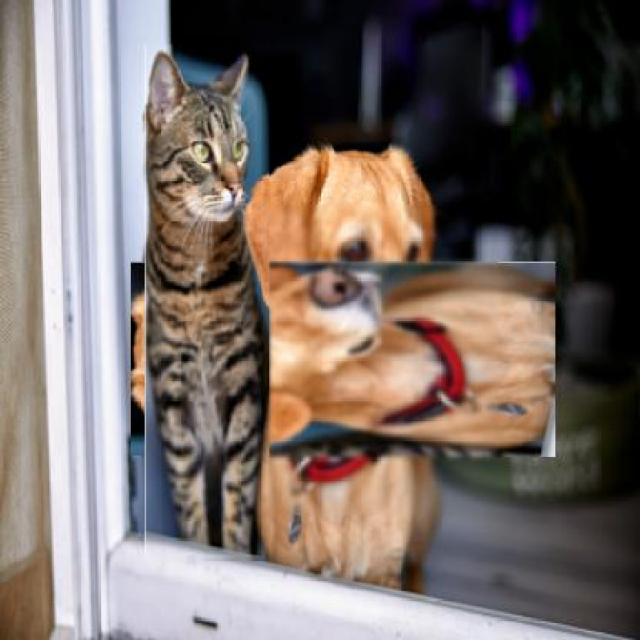cat: (145, 46, 269, 560)
dog: (190, 205, 499, 516)
